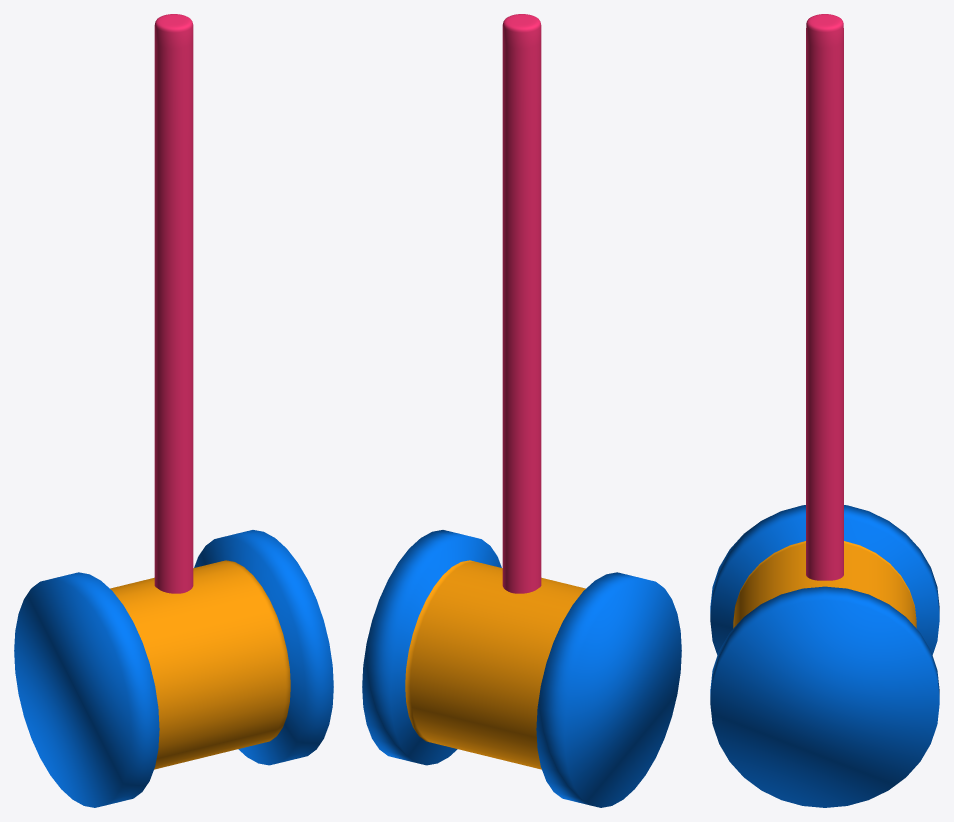
The picture shows the model from 3 angles, left to right: view 1: azimuth 30°, elevation 25°; view 2: azimuth 150°, elevation 25°; view 3: azimuth 270°, elevation 25°; orthographic projection. The views are drawn at different scales.
Visible parts, largest first — view 1: Balyoz, kol.002; view 2: Balyoz, kol.002; view 3: Balyoz, kol.002.
Boxes of the visible parts, box(x1,y1,x2,y2) form: Balyoz: box(14, 530, 333, 807); kol.002: box(154, 14, 193, 593); Balyoz: box(362, 530, 681, 807); kol.002: box(502, 14, 541, 593); Balyoz: box(710, 505, 939, 807); kol.002: box(806, 14, 843, 580).
Bounding box in the file's own units: 20 × 71.14 × 20.
